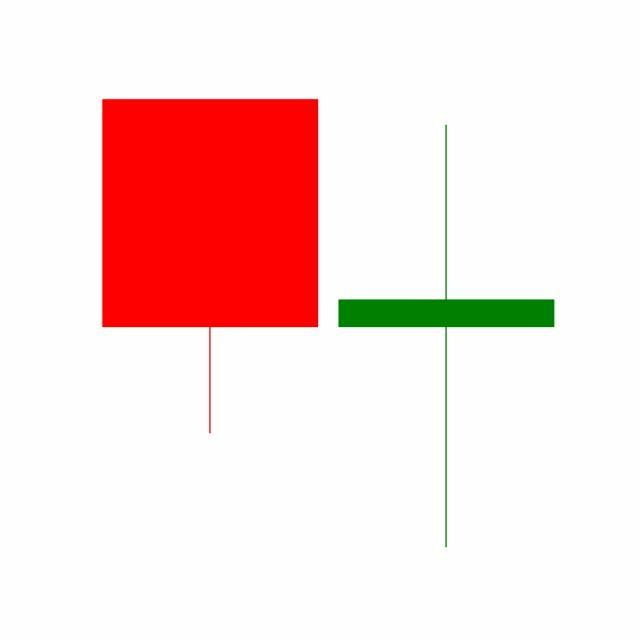Spinning Top: (328, 121, 566, 553)
